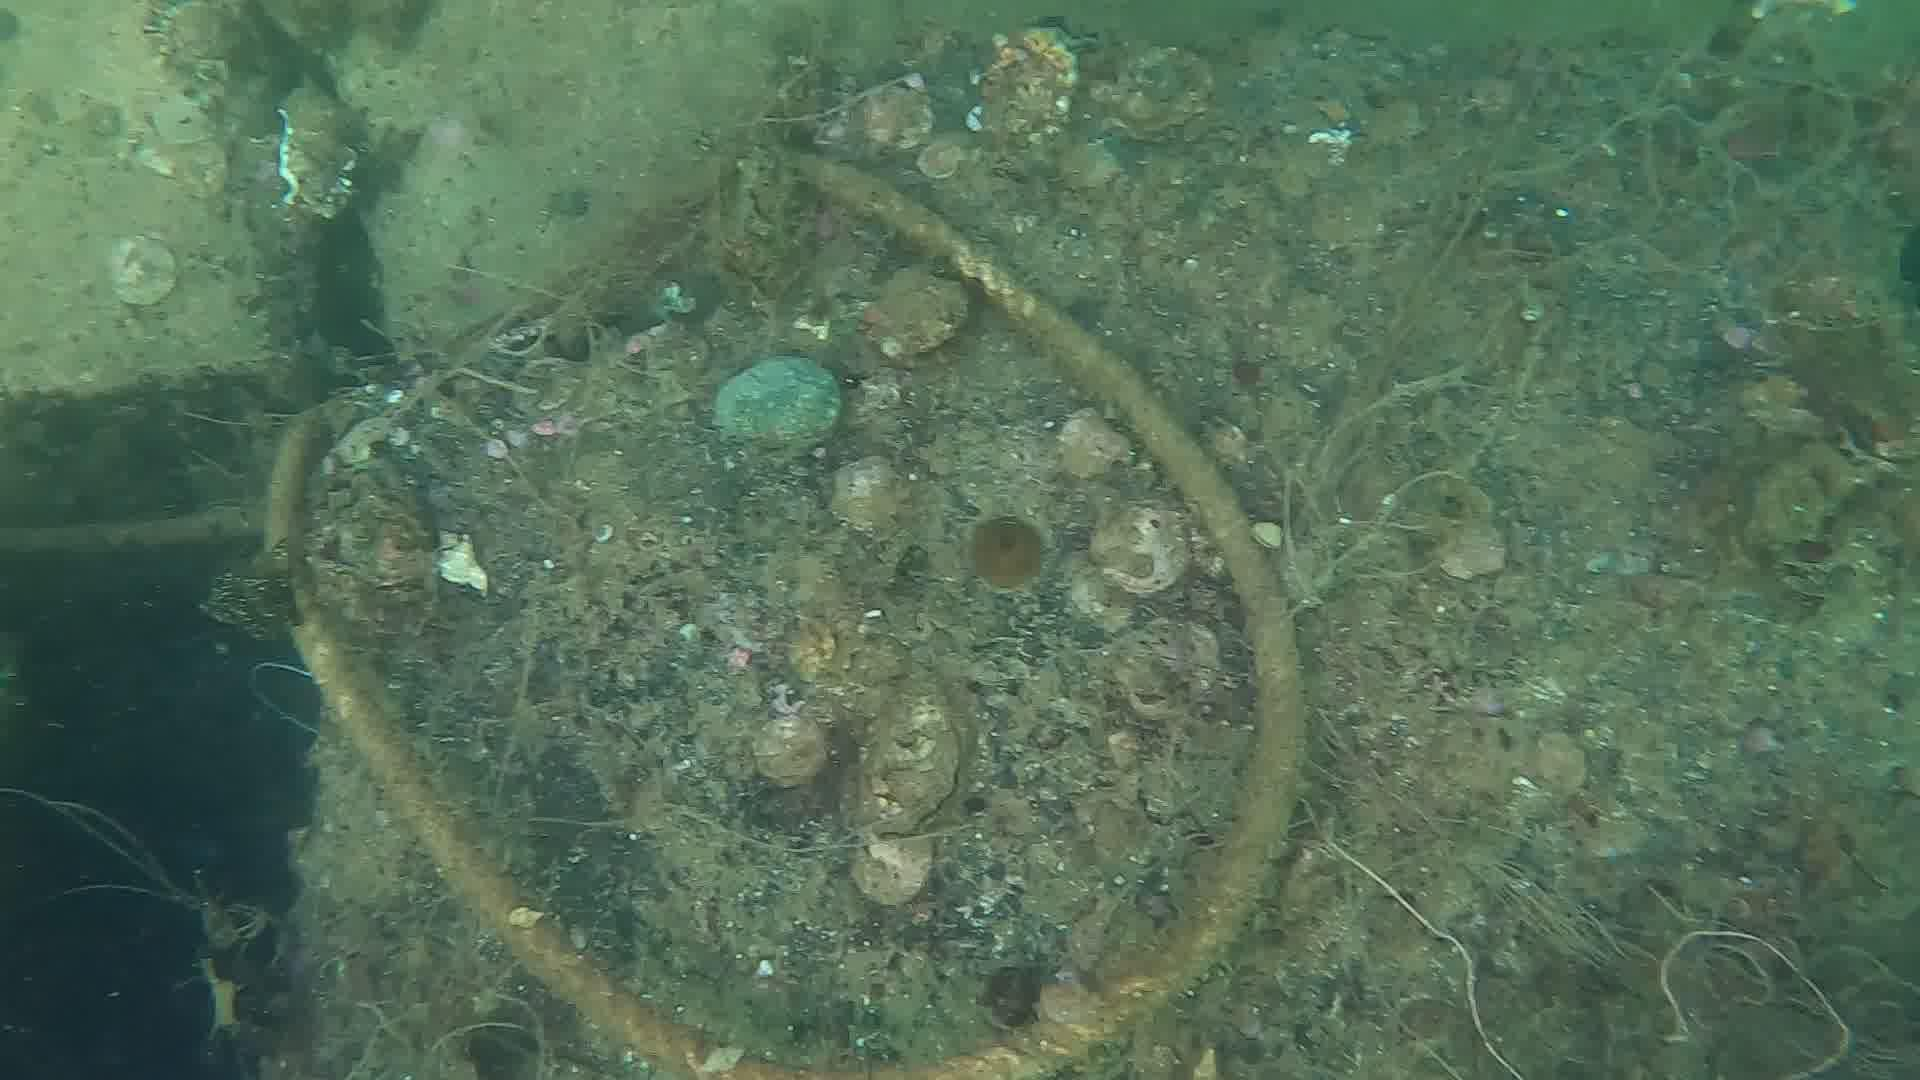rope: (262, 146, 1309, 1080)
